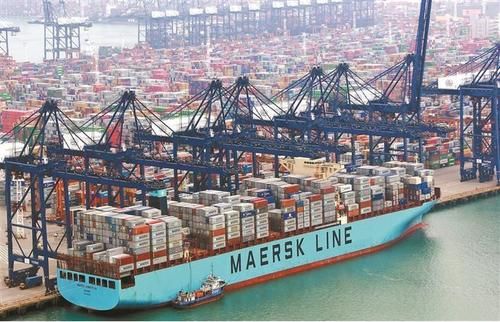Cargoship: (53, 146, 444, 312)
otherboat: (173, 267, 228, 309)
